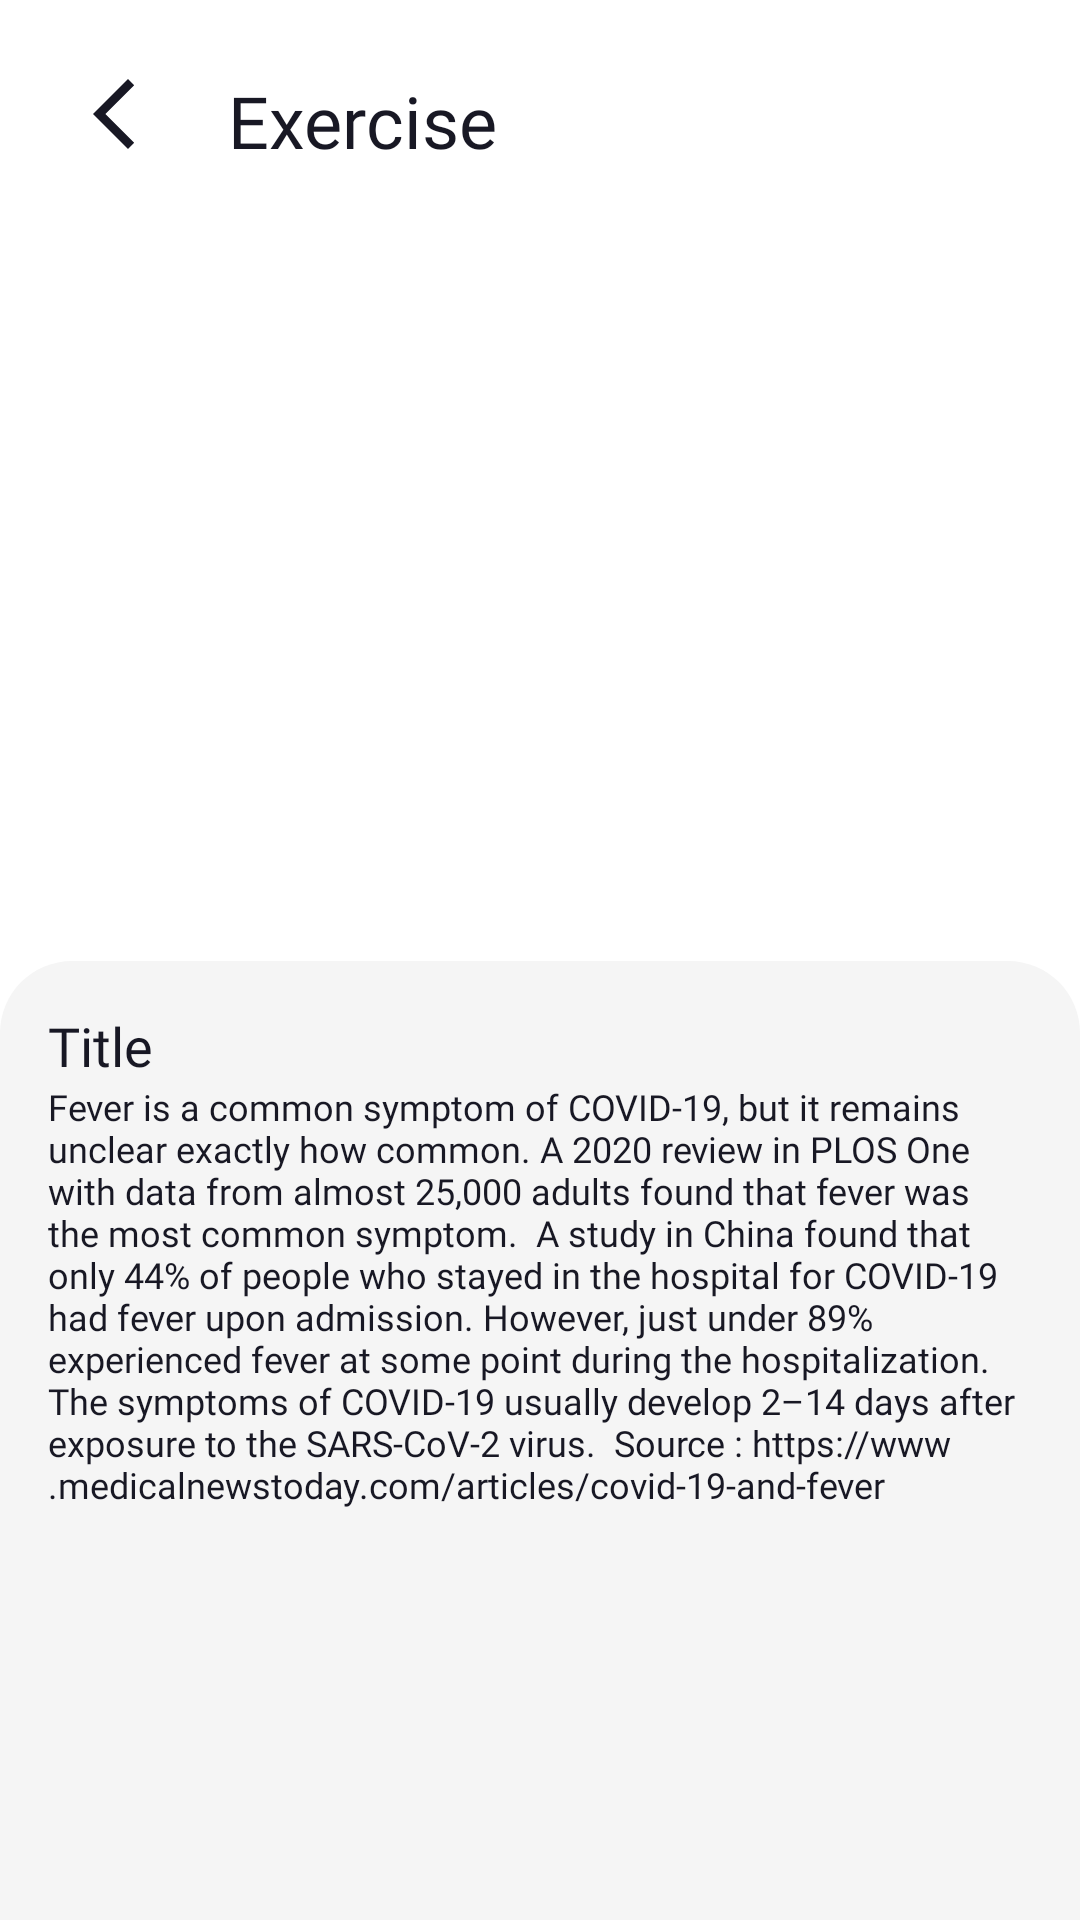

Screen size 1080px×1920px. Icon name, then its box in pixels as bbox=(x1, y1, x2, y2):
arrow back: bbox=(93, 79, 134, 149)
